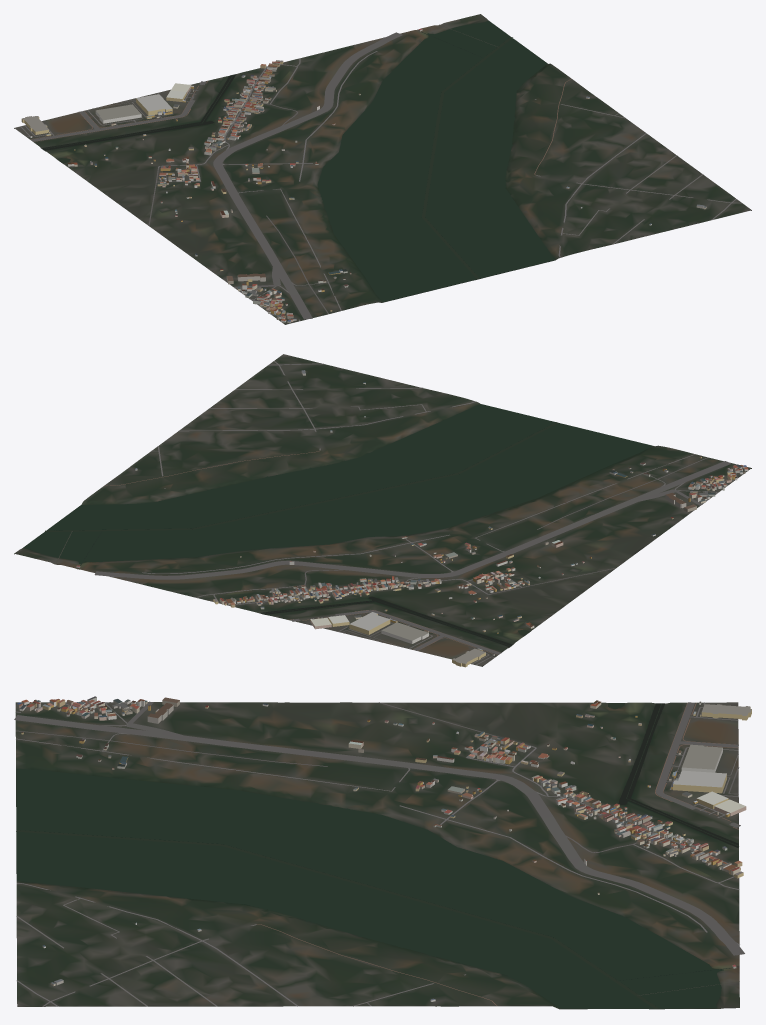
3 renders of one model, top to bottom at view 1: azimuth 30°, elevation 25°; view 2: azimuth 150°, elevation 25°; view 3: azimuth 270°, elevation 25°, orthographic. The views are drawn at different scales.
Parts seen in each view (by area): view 1: ground, water, roads, buildings; view 2: ground, water, roads, buildings; view 3: ground, water, buildings, roads.
Part boxes in pixels (box(x1,y1,x2,y2)): ground: box(14, 14, 751, 324); water: box(42, 20, 554, 302); roads: box(20, 32, 741, 321); buildings: box(21, 28, 706, 323); ground: box(14, 354, 751, 666); water: box(23, 404, 652, 646); roads: box(94, 361, 737, 665); buildings: box(76, 370, 748, 667); ground: box(15, 702, 739, 1009); water: box(16, 703, 739, 1009); buildings: box(16, 696, 751, 1001); roads: box(14, 701, 744, 1006).
Bounding box in the file's own units: 1408 × 20.89 × 1431.
